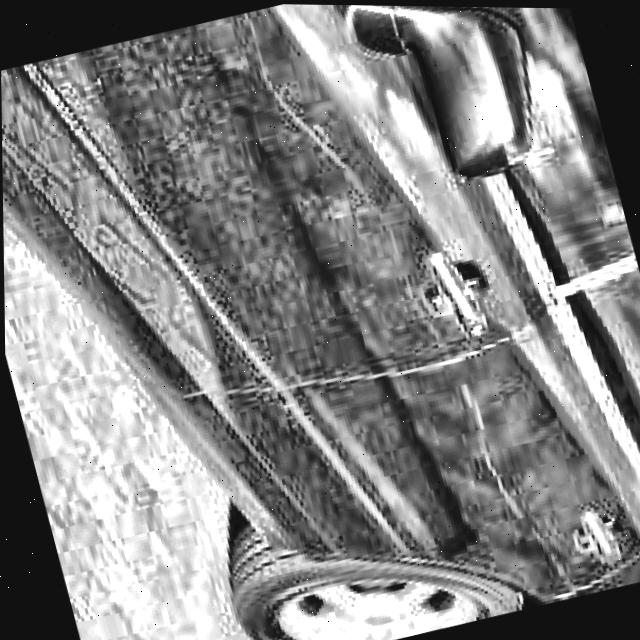door_scratch: (231, 3, 385, 237), (460, 396, 545, 568)
